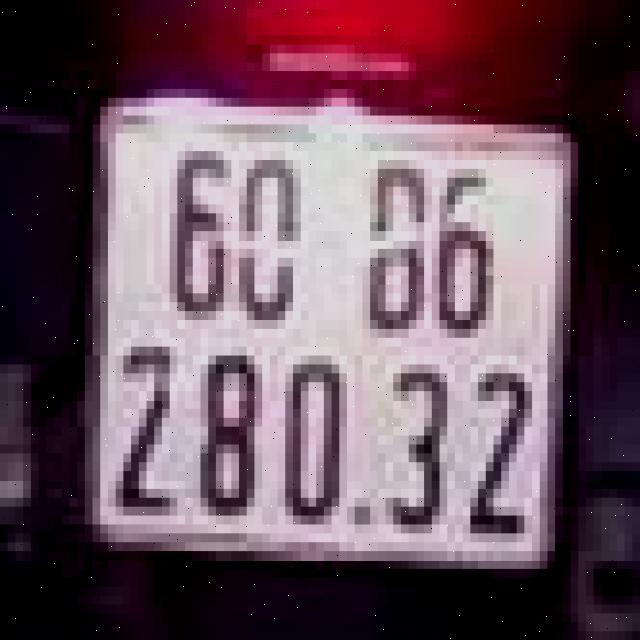0: (270, 333, 331, 529), (239, 156, 308, 316)
2: (96, 320, 189, 524), (466, 351, 536, 556)
3: (385, 351, 455, 547)
6: (428, 151, 505, 347), (162, 129, 224, 333)
8: (197, 333, 266, 520)
B: (355, 142, 432, 329)
